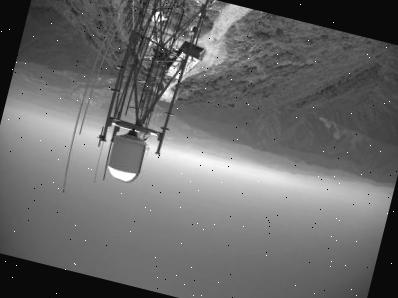smoke: (310, 114, 398, 166)
